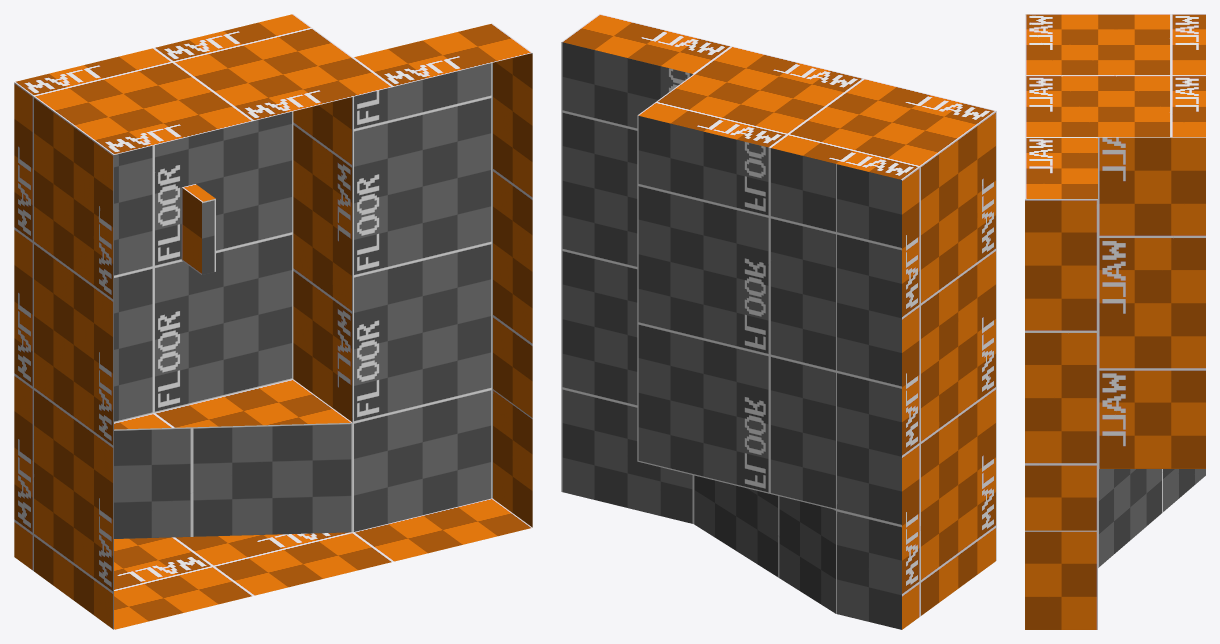
3 renders of one model, left to right at view 1: azimuth 30°, elevation 25°; view 2: azimuth 150°, elevation 25°; view 3: azimuth 270°, elevation 25°, orthographic. The views are drawn at different scales.
Parts seen in each view (by area): view 1: Floor; view 2: Floor; view 3: Floor.
Part boxes in pixels (left/top/right/bottom): Floor: left=14, top=14, right=532, bottom=629; Floor: left=561, top=14, right=996, bottom=629; Floor: left=1025, top=14, right=1205, bottom=629.
Bounding box in the file's own units: 12 × 13 × 4.95.
